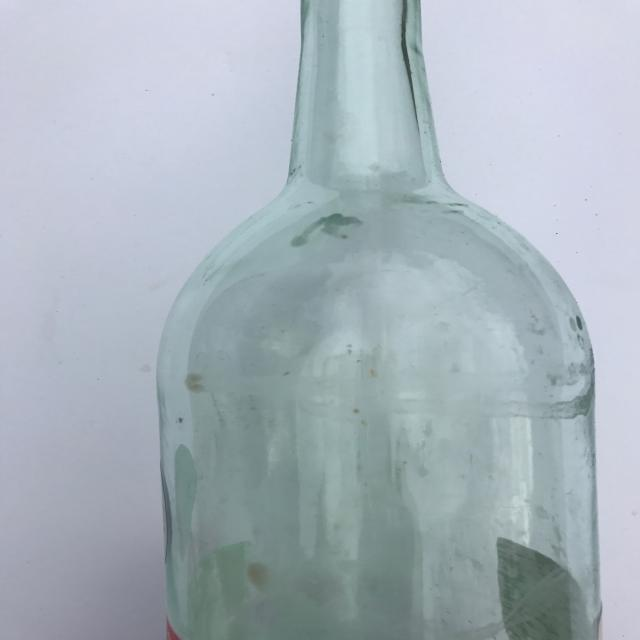glass: (155, 0, 602, 640)
